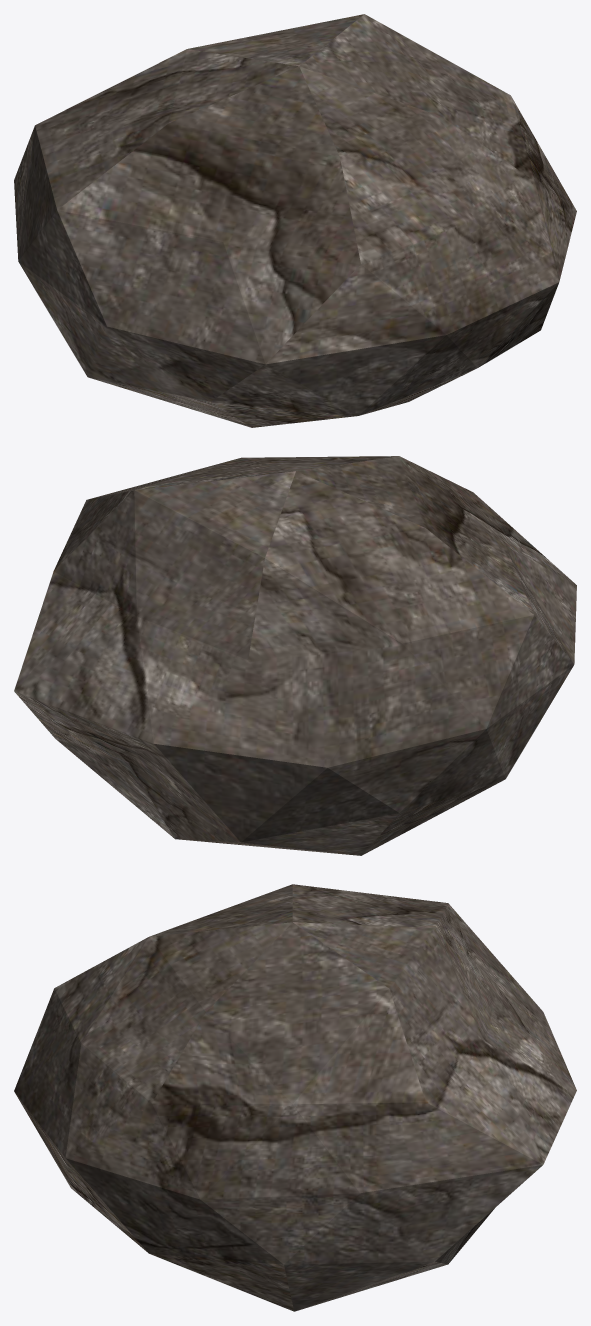
File: SmallRock3.fbx
3 views of the same model, one above another, from view 1: azimuth 30°, elevation 25°; view 2: azimuth 150°, elevation 25°; view 3: azimuth 270°, elevation 25° (orthographic).
Parts seen in each view (by area): view 1: RoundBolder1; view 2: RoundBolder1; view 3: RoundBolder1.
Part boxes in pixels (box(x1,y1,x2,y2)): RoundBolder1: box(14, 14, 576, 427); RoundBolder1: box(14, 456, 576, 855); RoundBolder1: box(14, 884, 576, 1311).
Size of the model in its own units: 136 by 96.71 by 142.
1 material, 1 textured.
